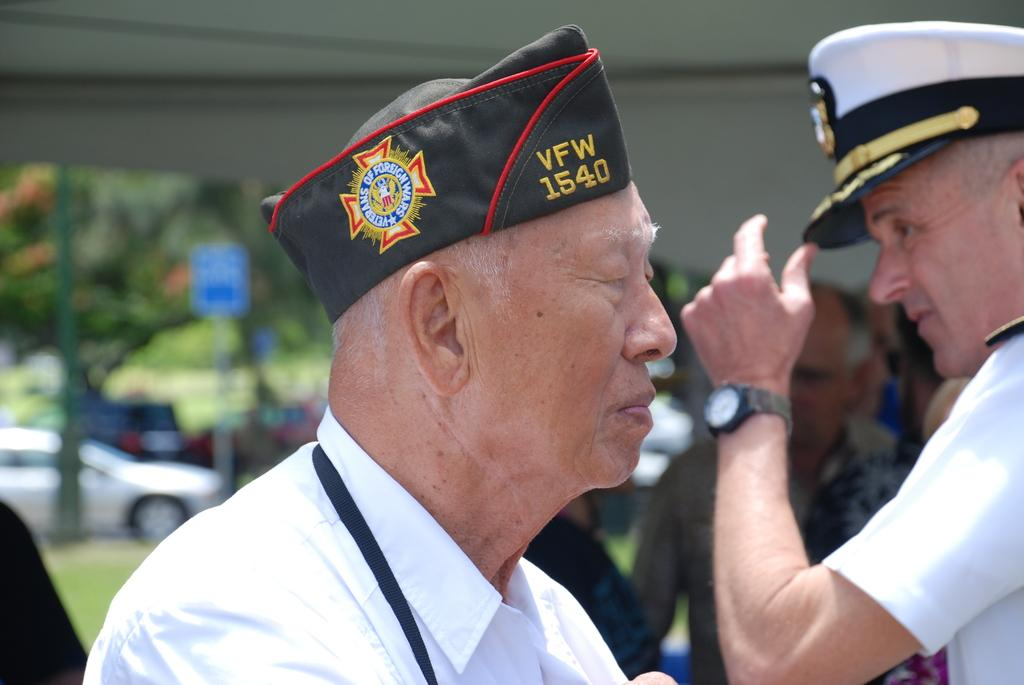Hat: (798, 17, 1022, 248)
